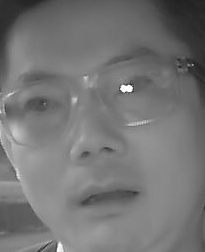glass: (95, 53, 179, 126), (2, 75, 79, 145)
mouth: (72, 177, 140, 217)
